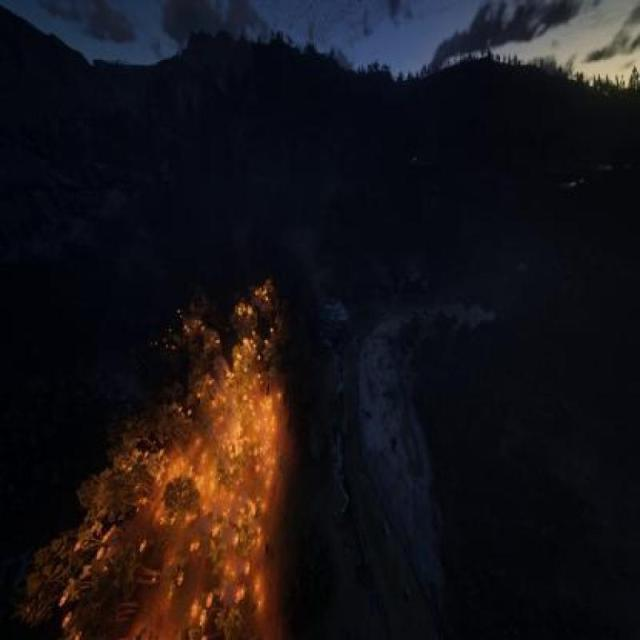Fire: (231, 285, 281, 640), (164, 377, 231, 640), (68, 478, 168, 640), (172, 284, 231, 378)
